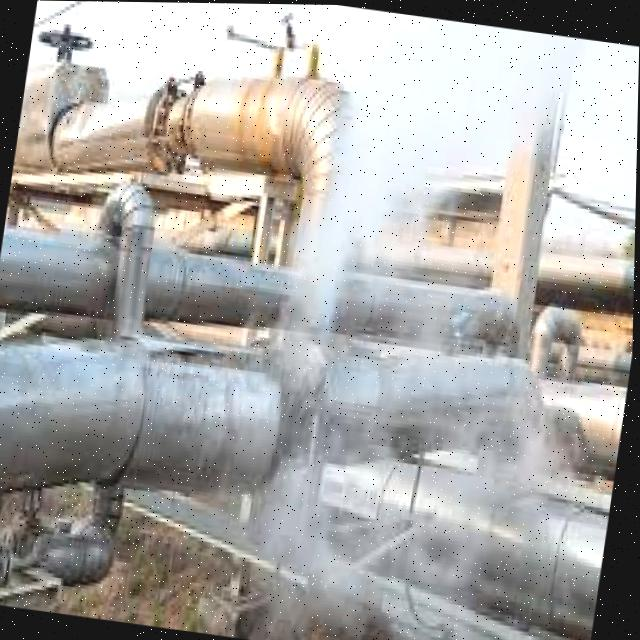corrosion: (160, 167, 406, 454)
